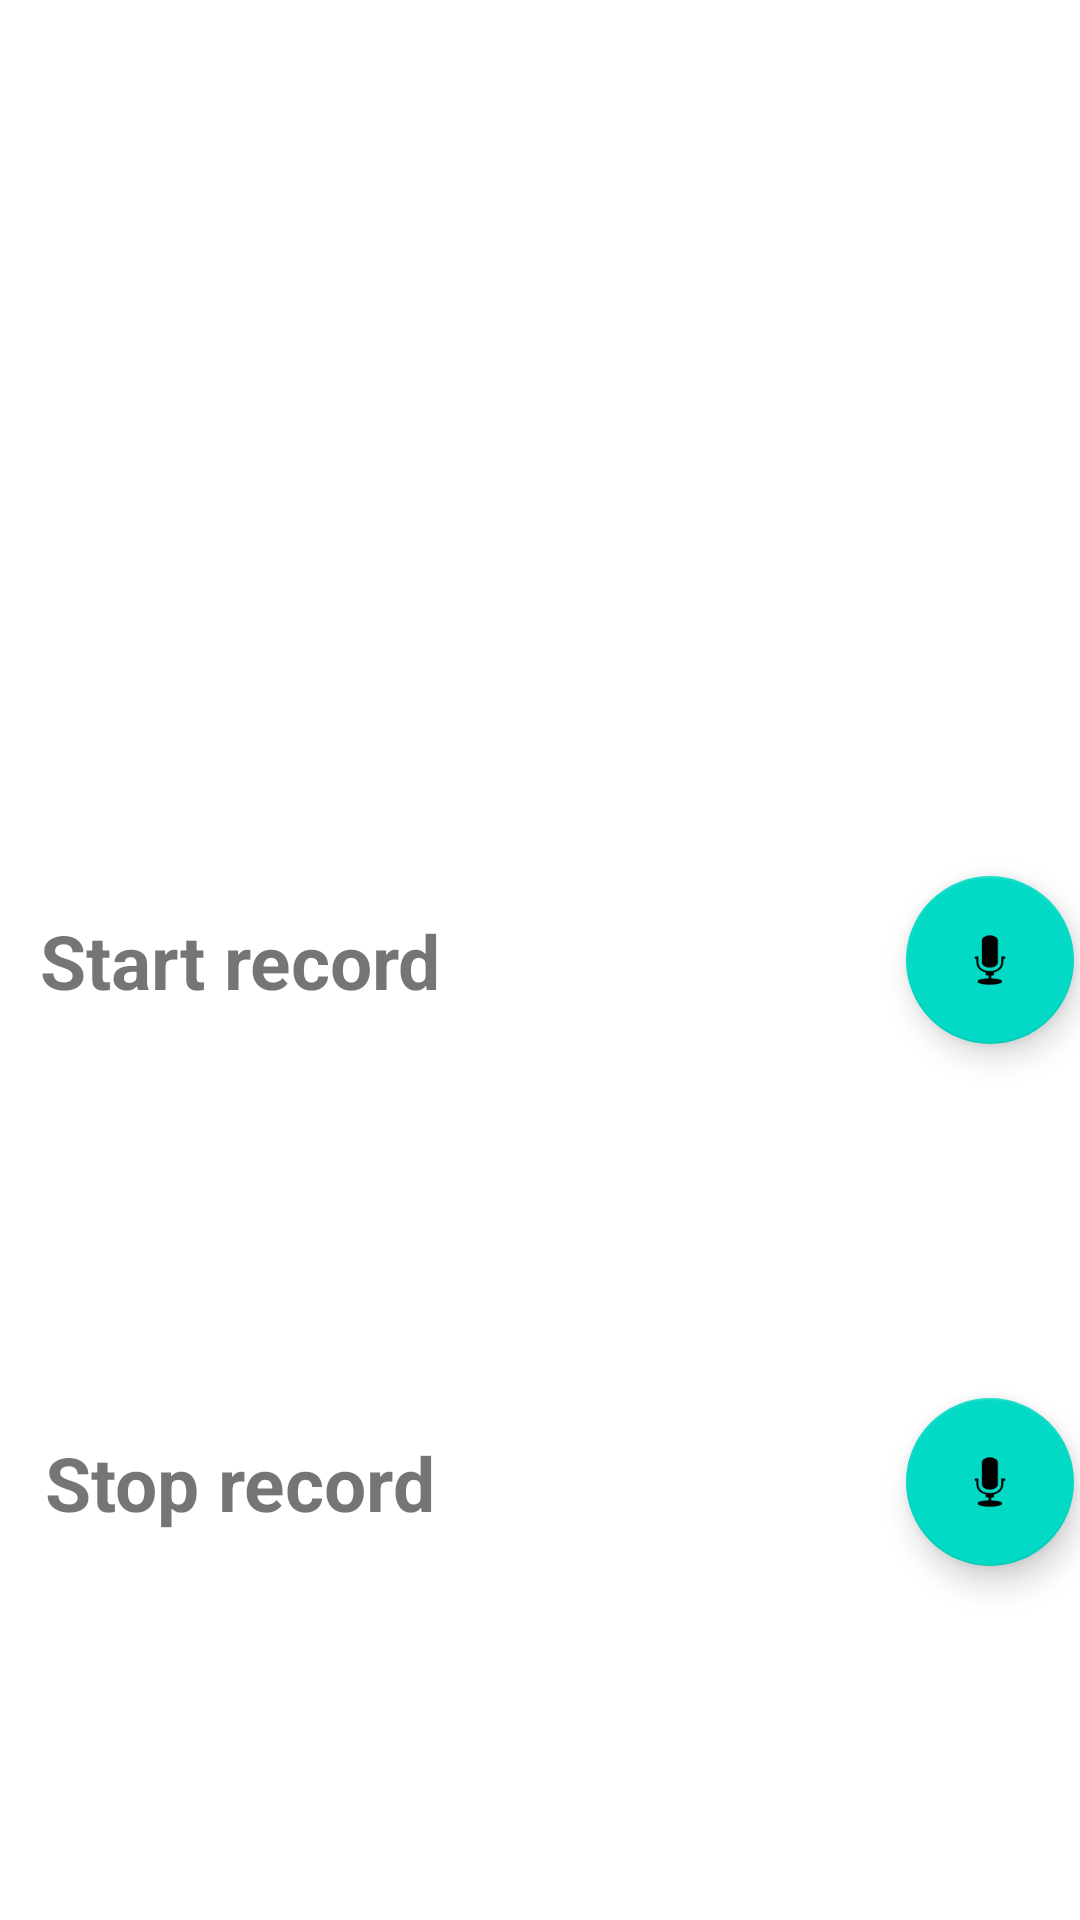

Where icons sit on this 1080*1920 app screen, as (x1, y1, x2, y2):
speak now: (906, 876, 1074, 1044), (906, 1398, 1074, 1566)
